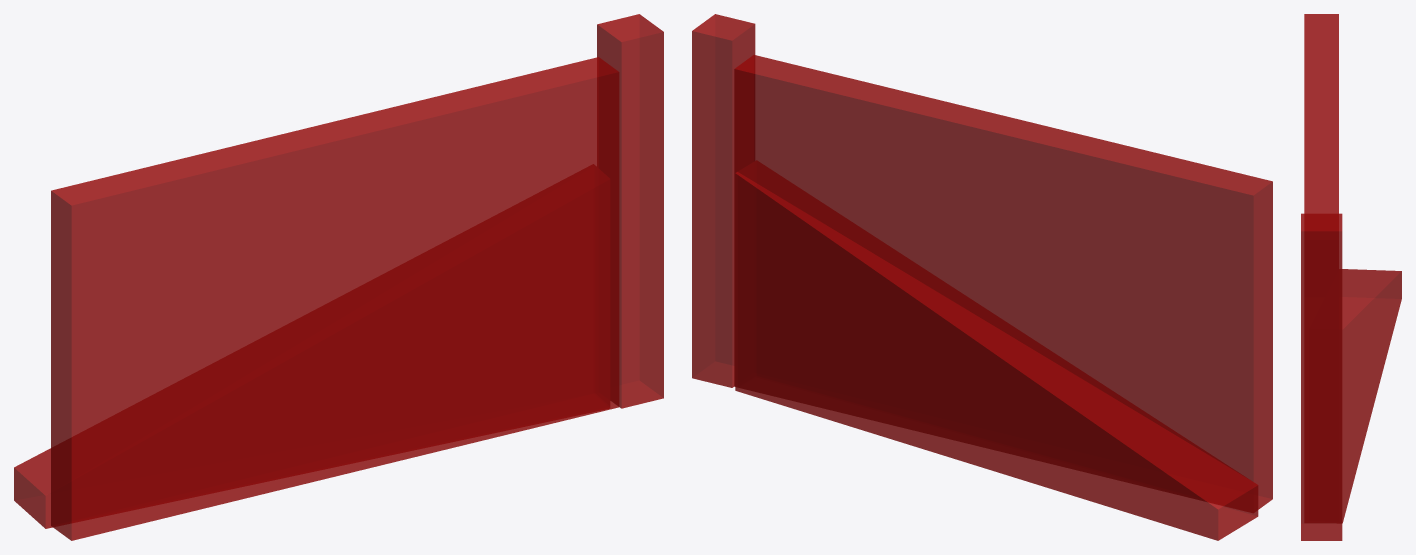
Rendered from SM_Prop_Meadow_Fence_06_Collision.fbx.
3 views of the same model, side by side, from view 1: azimuth 30°, elevation 25°; view 2: azimuth 150°, elevation 25°; view 3: azimuth 270°, elevation 25° (orthographic). The views are drawn at different scales.
Parts seen in each view (by area): view 1: SM_Prop_Meadow_Fence_06_Collision; view 2: SM_Prop_Meadow_Fence_06_Collision; view 3: SM_Prop_Meadow_Fence_06_Collision.
Boxes of the visible parts, box(x1,y1,x2,y2) form: SM_Prop_Meadow_Fence_06_Collision: box(14, 14, 663, 540); SM_Prop_Meadow_Fence_06_Collision: box(692, 14, 1272, 540); SM_Prop_Meadow_Fence_06_Collision: box(1301, 14, 1401, 540).
Size of the model in its own units: 255 by 150 by 44.16.
